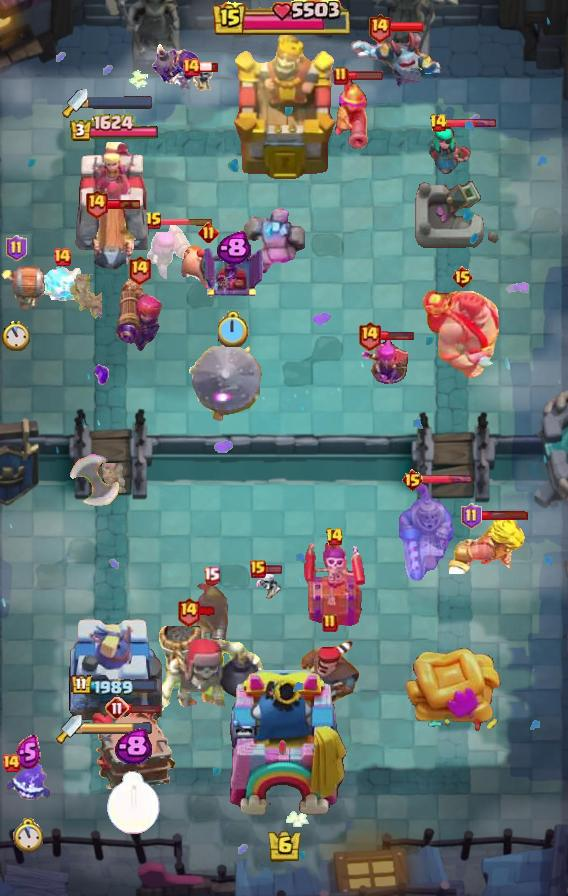archer-evolution: (362, 339, 414, 397)
axe: (53, 453, 121, 507)
bar: (421, 474, 473, 485), (445, 118, 497, 129), (479, 510, 529, 521), (160, 217, 214, 226), (106, 198, 142, 210), (389, 21, 425, 33), (380, 329, 415, 341), (347, 70, 384, 81), (127, 703, 162, 714), (199, 61, 219, 73), (198, 605, 217, 617), (264, 564, 283, 575)
bar-level: (176, 596, 201, 627), (357, 320, 382, 351), (127, 254, 152, 285), (84, 188, 109, 219), (367, 12, 392, 43), (105, 696, 129, 720), (401, 468, 424, 492), (451, 265, 474, 289), (461, 503, 482, 529), (6, 235, 27, 261), (198, 222, 219, 243), (1, 753, 21, 773), (52, 247, 72, 267), (181, 57, 201, 77), (325, 527, 344, 547), (429, 113, 448, 133), (145, 211, 163, 231), (203, 566, 220, 585), (322, 613, 338, 633), (333, 66, 349, 86), (250, 560, 266, 578)
bomber-evolution: (149, 44, 201, 100)
clock: (106, 771, 161, 835), (13, 818, 44, 854), (218, 311, 249, 347), (2, 320, 30, 351)
dagger-duchess-tower: (66, 611, 162, 731), (73, 140, 155, 256)
dagger-duchess-tower-bar: (82, 722, 152, 736), (88, 96, 152, 109)
dirt: (60, 274, 102, 319), (100, 463, 132, 493)
electro-spirit: (5, 762, 51, 806)
elixir: (114, 728, 152, 766), (216, 231, 251, 266), (15, 735, 41, 769)
firecracker: (146, 222, 194, 284)
firecracker-evolution: (115, 278, 163, 354)
golemite: (243, 202, 305, 278)
hunter: (299, 638, 361, 710)
ice-spirit: (41, 264, 83, 306)
king-tower: (219, 670, 349, 826), (231, 34, 338, 181)
king-tower-bar: (213, 0, 355, 38)
mega-minion: (349, 30, 445, 100)
musketeer: (332, 74, 372, 150), (192, 579, 230, 657)
rascal-girl: (427, 127, 473, 177)
royal-hog: (181, 245, 235, 295)
skeleton: (191, 63, 219, 93), (255, 571, 281, 600)
tower-bar: (69, 114, 160, 143), (70, 674, 159, 698)
wall-breaker: (0, 266, 48, 310)
